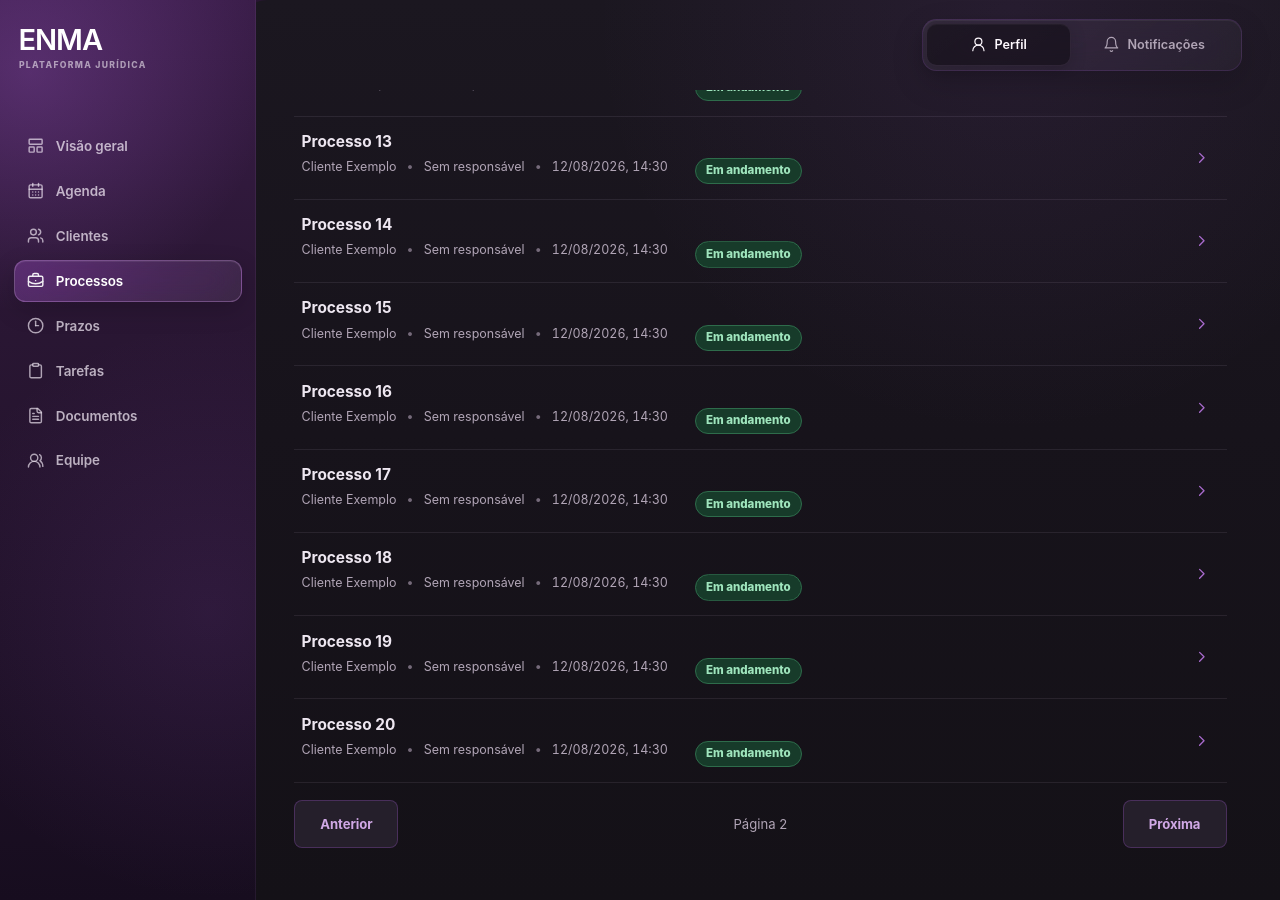
Processes D1 flow › ProcessPagination_UrlAndControls_RequestAuthoritativeBackendPages
(page scrolled)
Click the button with aria-label "Próxima página de processos" at (1175, 824), box x1=1123 y1=800 x2=1227 y2=848
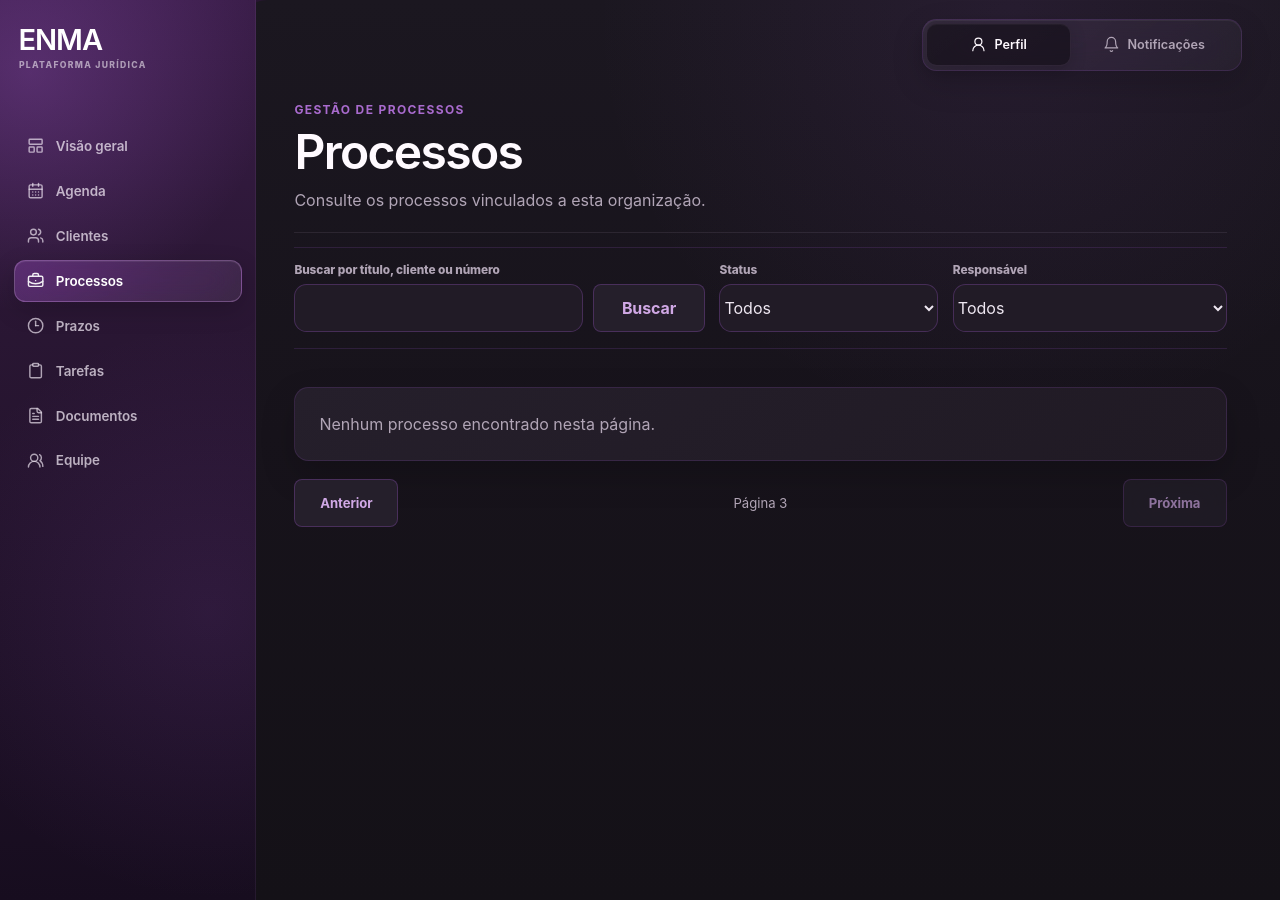
Expected: the text "Nenhum processo encontrado nesta página." is shown, x1=319 y1=414 x2=655 y2=434
Click the button with aria-label "Página anterior de processos" at (346, 502), box x1=294 y1=478 x2=398 y2=526
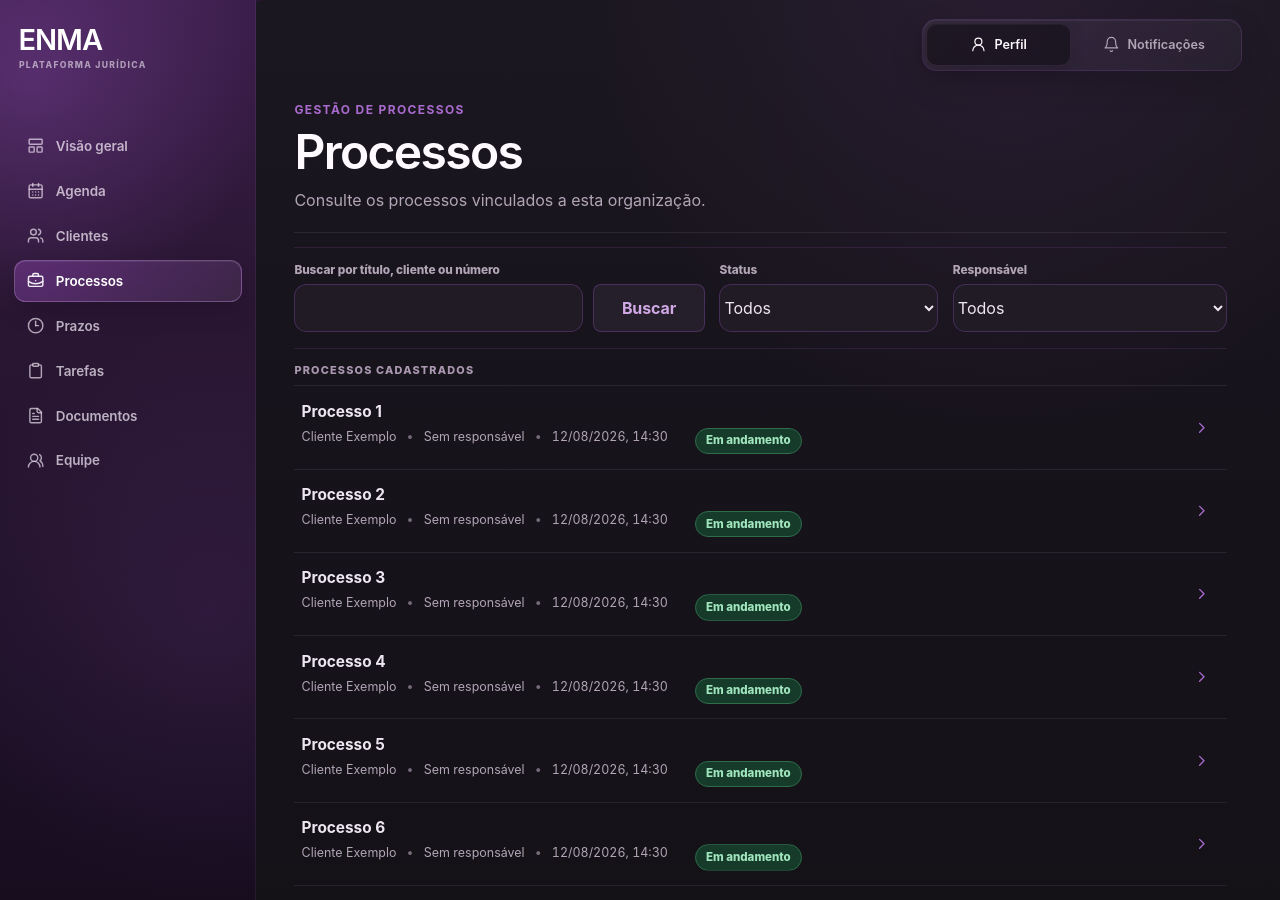
Expected: the text "Processo 1" is shown, x1=302 y1=402 x2=382 y2=421
